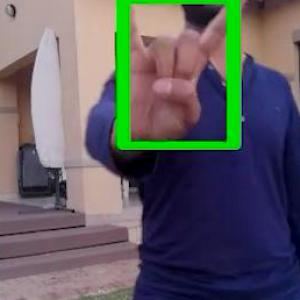takeoff-hand: (108, 0, 259, 157)
